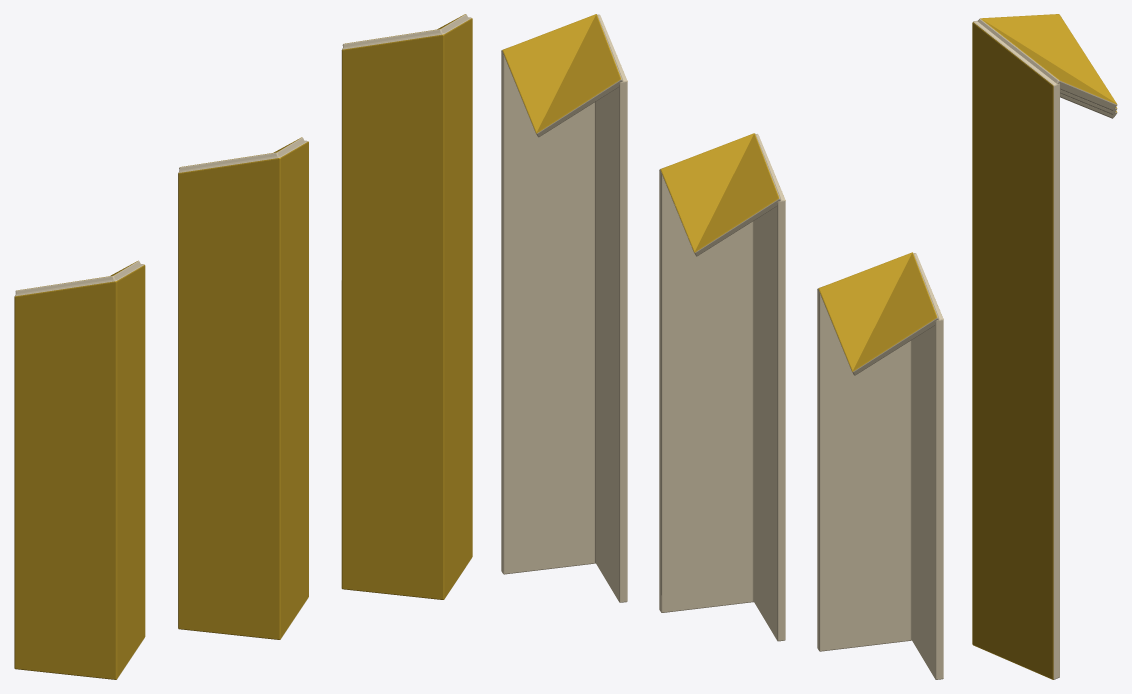
The model's file is level-gold.glb.
3 renders of one model, left to right at view 1: azimuth 30°, elevation 25°; view 2: azimuth 150°, elevation 25°; view 3: azimuth 270°, elevation 25°, orthographic. The views are drawn at different scales.
Parts seen in each view (by area): view 1: level-gold; view 2: level-gold; view 3: level-gold.
Boxes of the visible parts, <box> form: level-gold: <box>14,14,472,679</box>; level-gold: <box>501,14,943,679</box>; level-gold: <box>972,14,1117,679</box>.
Size of the model in its own units: 1.09 by 1.3 by 0.2715.
